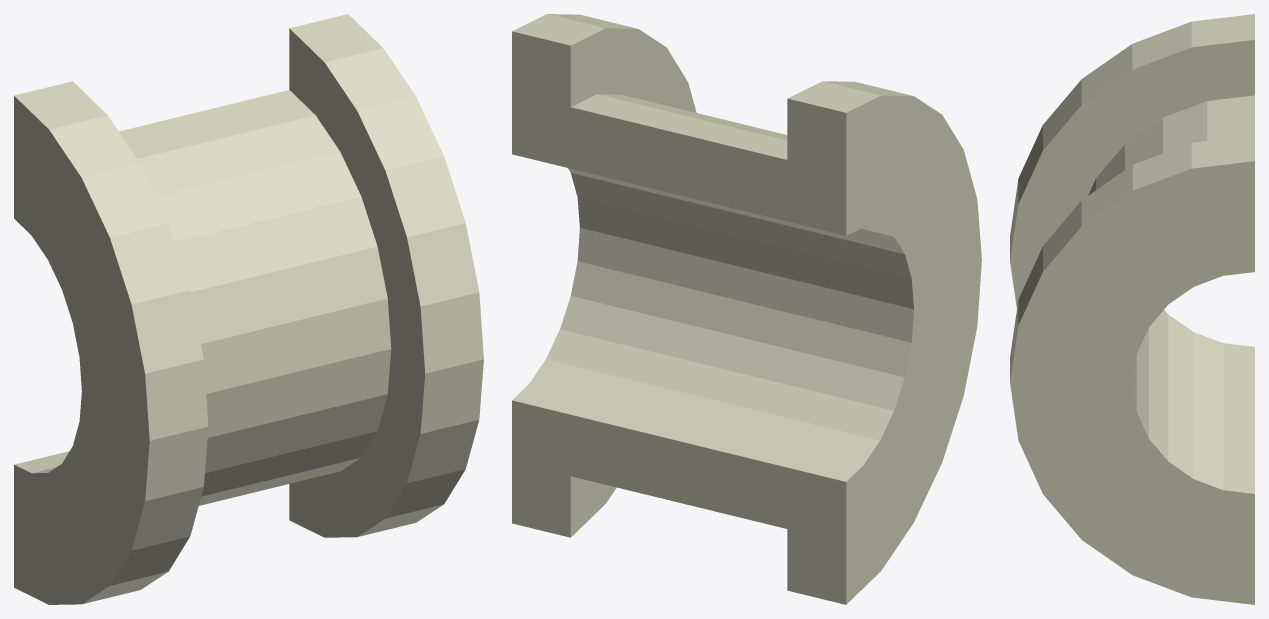
File: section_267.obj
3 renders of one model, left to right at view 1: azimuth 30°, elevation 25°; view 2: azimuth 150°, elevation 25°; view 3: azimuth 270°, elevation 25°, orthographic. The views are drawn at different scales.
Size of the model in its own units: 5.69 by 8 by 4.
